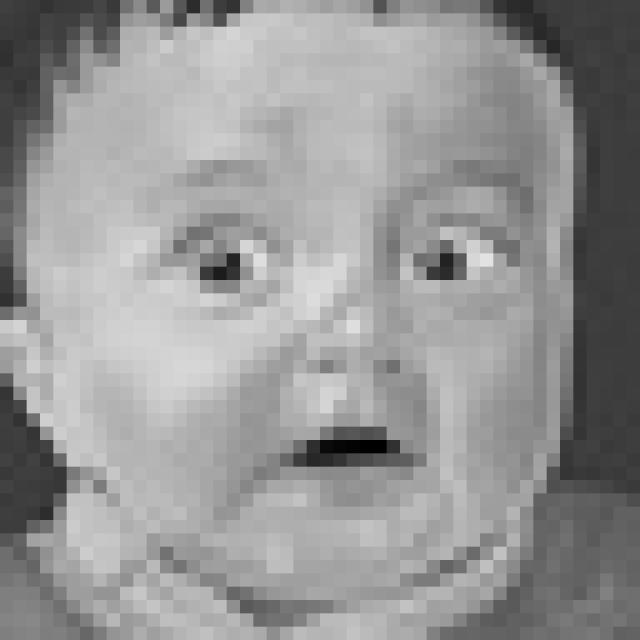fear: (148, 153, 537, 521)
